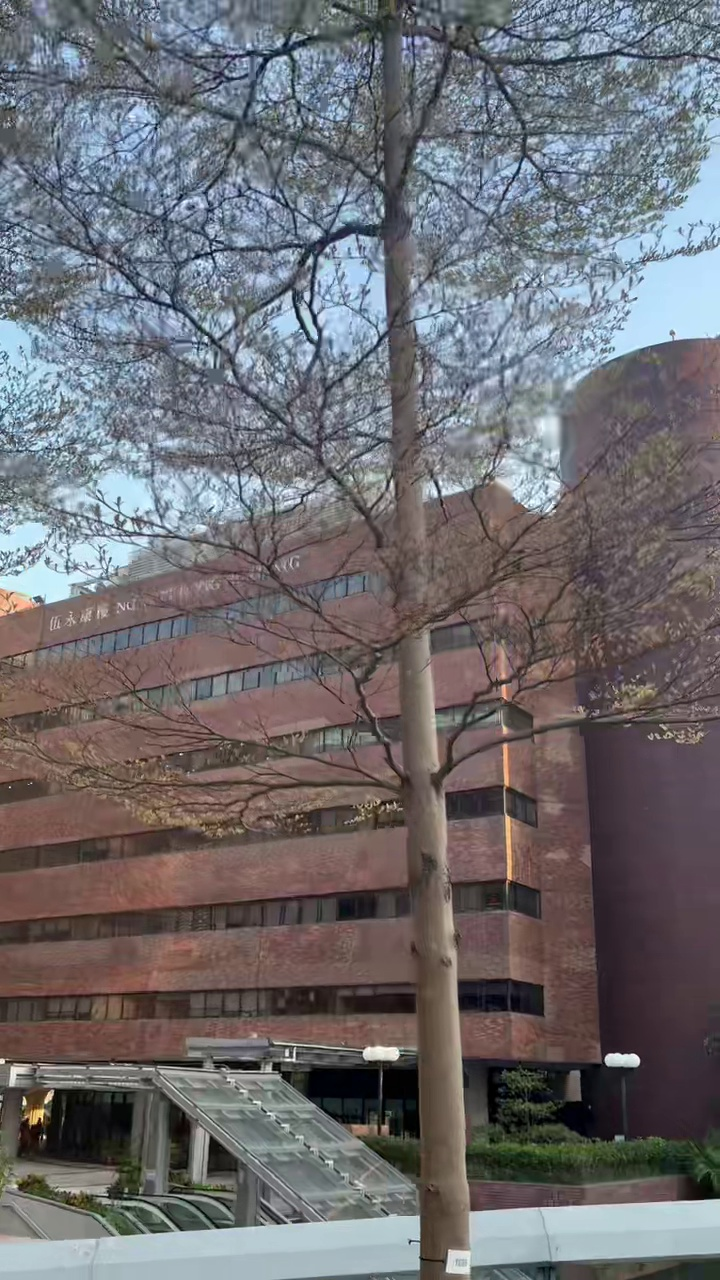Terminalia mantaly: (0, 0, 719, 1244)
